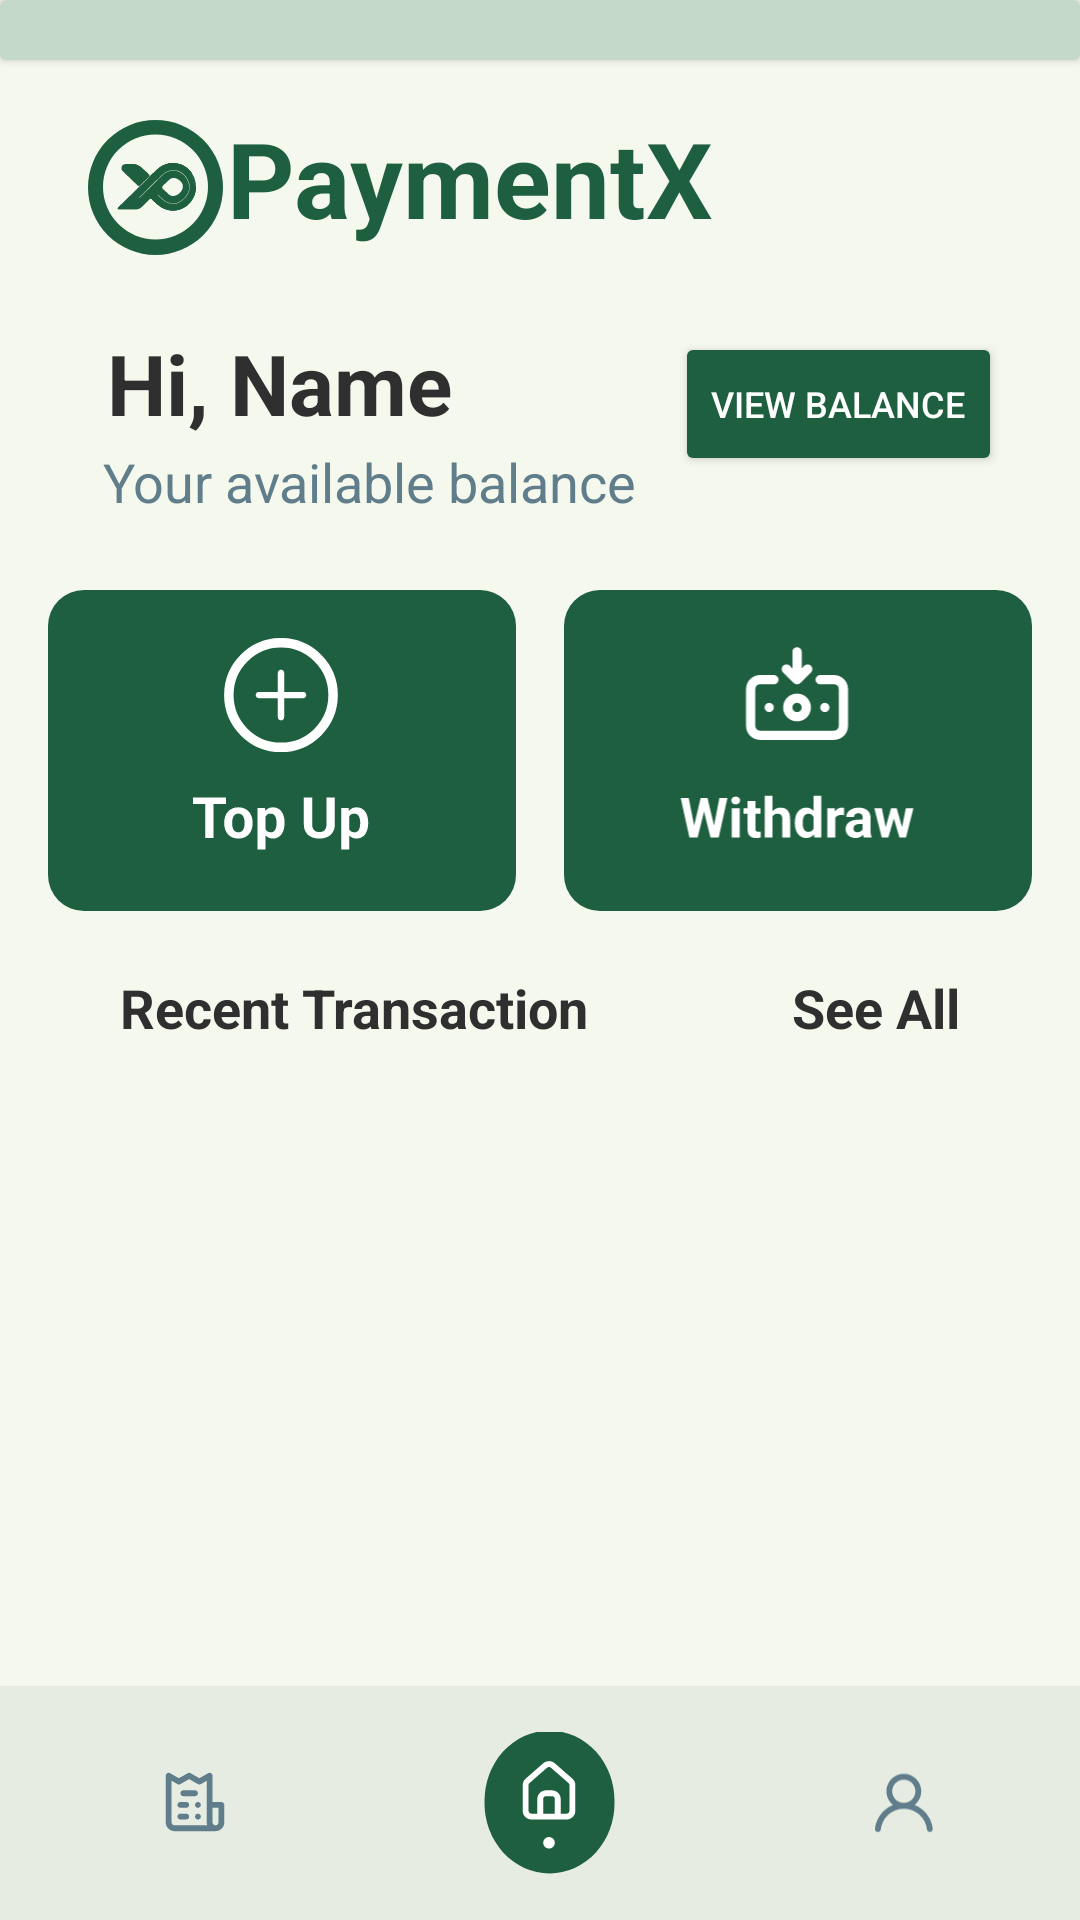

Icons on this 1080x1920 Android screen, each with its box as (x1, y1, x2, y2):
profile: (875, 1773, 933, 1832)
transaction: (165, 1772, 225, 1832)
